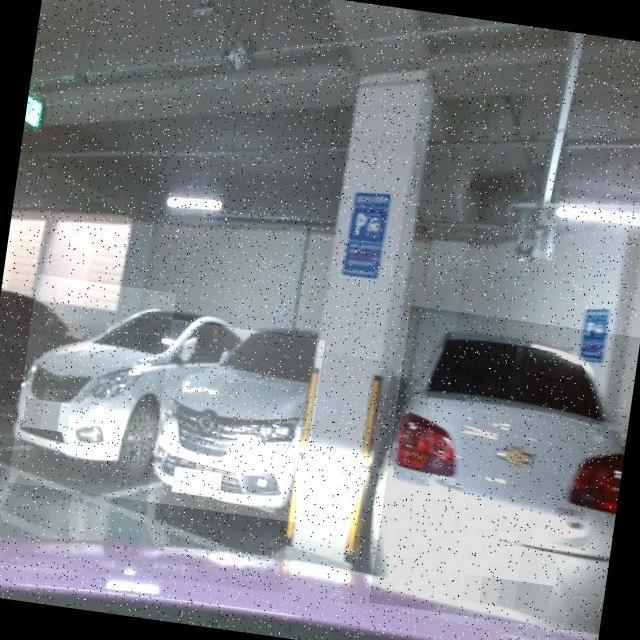occupied: (369, 305, 640, 634), (8, 274, 176, 502), (143, 320, 325, 524)
